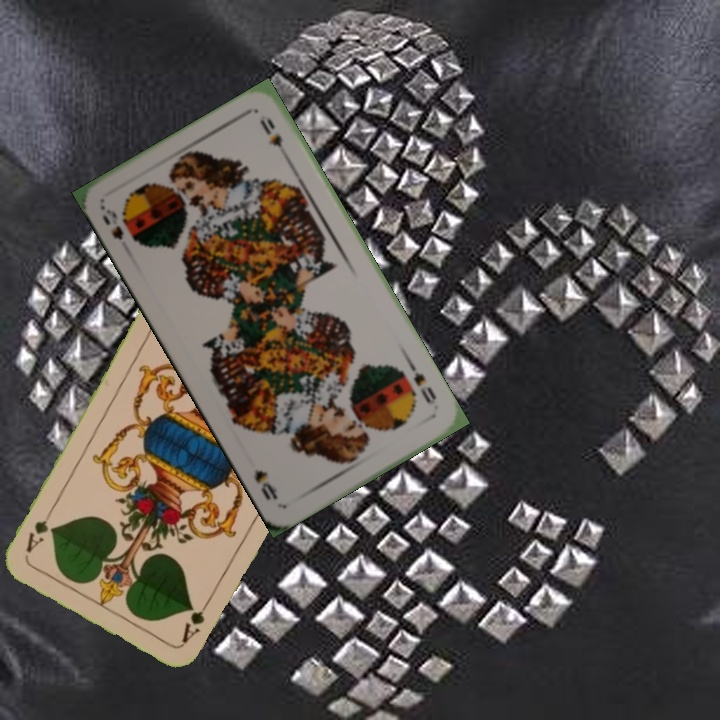GA: (177, 592, 215, 646)
SO: (405, 358, 439, 406), (96, 202, 126, 242)
